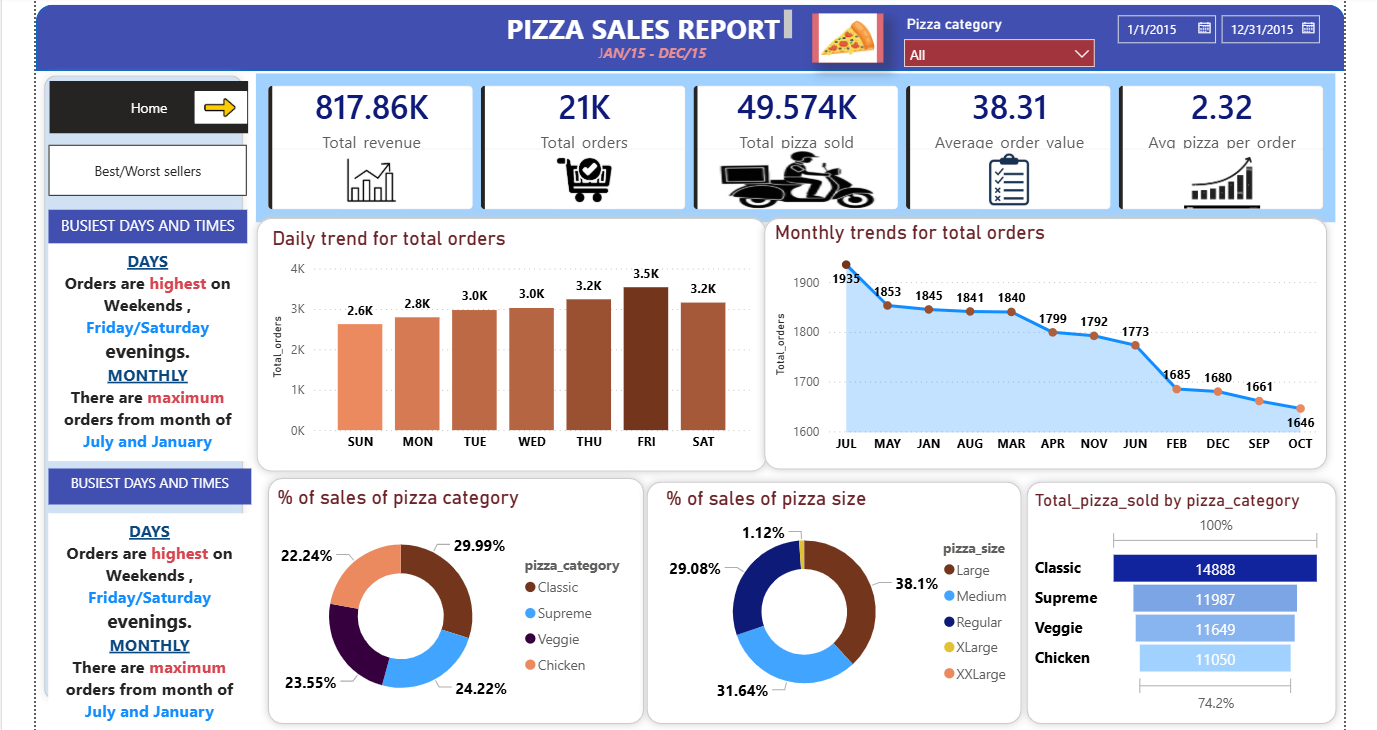

The dashboard page shown, as its layout file describes it:
{"tool":"powerbi","page":{"name":"Home","canvas":[1280,720],"ordinal":0},"visuals":[{"type":"cardVisual","fields":{"Data":["pizza_sales.Total_revenue","pizza_sales.Total_orders","pizza_sales.Total_pizza_sold","pizza_sales.Average","pizza_sales.Avg_pizza_per_order"]},"box":[210.3,70.9,1070,155.3],"z":0},{"type":"shape","box":[0,8.6,1280.3,64.8],"z":1000},{"type":"textbox","box":[452.4,8.6,292.3,41.6],"z":2000},{"type":"textbox","box":[539.3,41.6,127.2,29.3],"z":3000},{"type":"image","box":[759.4,17.1,69.7,47.7],"z":4000},{"type":"shape","box":[207.9,209.1,514.8,264.1],"z":5000},{"type":"columnChart","title":"Daily trend for total orders","fields":{"Category":["pizza_sales.Order_day"],"Y":["pizza_sales.Total_orders"]},"box":[226.2,226.2,476.9,228.7],"z":6000},{"type":"shape","box":[703.9,208.6,566.7,262.1],"z":7000},{"type":"shape","box":[218.9,463.5,384,256.8],"z":8000},{"type":"shape","box":[961.1,467.1,319.2,253.1],"z":9000},{"type":"shape","box":[0,69.7,210.3,627.3],"z":10000},{"type":"shape","box":[589.4,467.1,382.7,253.1],"z":11000},{"type":"donutChart","title":"% of sales of pizza category","fields":{"Y":["CountNonNull(pizza_sales.pizza_size)"],"Category":["pizza_sales.pizza_category"]},"box":[231.1,479.4,360.7,233.6],"z":12000},{"type":"donutChart","title":"% of sales of pizza size","fields":{"Y":["CountNonNull(pizza_sales.pizza_size)"],"Category":["pizza_sales.pizza_size"]},"box":[611.4,480.6,360.7,222.6],"z":13000},{"type":"funnel","fields":{"Category":["pizza_sales.pizza_category"],"Y":["pizza_sales.Total_pizza_sold"]},"box":[972.2,483,291,222.6],"z":14000},{"type":"textbox","box":[12.2,462.2,198.1,35.5],"z":15000},{"type":"textbox","box":[12.2,242.1,194.4,212.8],"z":16000},{"type":"textbox","box":[12.2,506.3,198.1,214],"z":17000},{"type":"textbox","box":[12.2,209.1,194.4,33],"z":18000},{"type":"slicer","fields":{"Values":["pizza_sales.pizza_category"]},"box":[838.9,13.5,206.7,56.3],"z":19000},{"type":"slicer","fields":{"Values":["pizza_sales.order_date"]},"box":[1045.5,8.6,217.7,64.8],"z":20000},{"type":"pageNavigator","box":[13.5,83.2,194.4,51.4],"z":21000},{"type":"pageNavigator","box":[12.2,145.5,194.4,50.1],"z":22000},{"type":"image","box":[155.3,92.9,51.4,31.8],"z":23000},{"type":"areaChart","title":"Monthly trends for total orders","fields":{"Category":["pizza_sales.Order_month"],"Y":["pizza_sales.Total_orders"]},"box":[717.7,219.6,540.7,236],"z":24000}]}

Visuals, with their boxes on the page's 1280x720 design canvas (x1, y1, x2, y2). These are canvas units, not pixel positions in the 1377x730 screenshot, which may show the page scaled, cropped or inside an application window:
cardVisual - pizza_sales.Total_revenue x pizza_sales.Total_orders: {"x1": 210, "y1": 71, "x2": 1280, "y2": 226}
shape: {"x1": 0, "y1": 9, "x2": 1280, "y2": 73}
textbox: {"x1": 452, "y1": 9, "x2": 745, "y2": 50}
textbox: {"x1": 539, "y1": 42, "x2": 666, "y2": 71}
image: {"x1": 759, "y1": 17, "x2": 829, "y2": 65}
shape: {"x1": 208, "y1": 209, "x2": 723, "y2": 473}
"Daily trend for total orders" columnChart: {"x1": 226, "y1": 226, "x2": 703, "y2": 455}
shape: {"x1": 704, "y1": 209, "x2": 1271, "y2": 471}
shape: {"x1": 219, "y1": 464, "x2": 603, "y2": 720}
shape: {"x1": 961, "y1": 467, "x2": 1280, "y2": 720}
shape: {"x1": 0, "y1": 70, "x2": 210, "y2": 697}
shape: {"x1": 589, "y1": 467, "x2": 972, "y2": 720}
"% of sales of pizza category" donutChart: {"x1": 231, "y1": 479, "x2": 592, "y2": 713}
"% of sales of pizza size" donutChart: {"x1": 611, "y1": 481, "x2": 972, "y2": 703}
funnel - pizza_sales.pizza_category x pizza_sales.Total_pizza_sold: {"x1": 972, "y1": 483, "x2": 1263, "y2": 706}
textbox: {"x1": 12, "y1": 462, "x2": 210, "y2": 498}
textbox: {"x1": 12, "y1": 242, "x2": 207, "y2": 455}
textbox: {"x1": 12, "y1": 506, "x2": 210, "y2": 720}
textbox: {"x1": 12, "y1": 209, "x2": 207, "y2": 242}
slicer - pizza_sales.pizza_category: {"x1": 839, "y1": 14, "x2": 1046, "y2": 70}
slicer - pizza_sales.order_date: {"x1": 1046, "y1": 9, "x2": 1263, "y2": 73}
pageNavigator: {"x1": 14, "y1": 83, "x2": 208, "y2": 135}
pageNavigator: {"x1": 12, "y1": 146, "x2": 207, "y2": 196}
image: {"x1": 155, "y1": 93, "x2": 207, "y2": 125}
"Monthly trends for total orders" areaChart: {"x1": 718, "y1": 220, "x2": 1258, "y2": 456}
